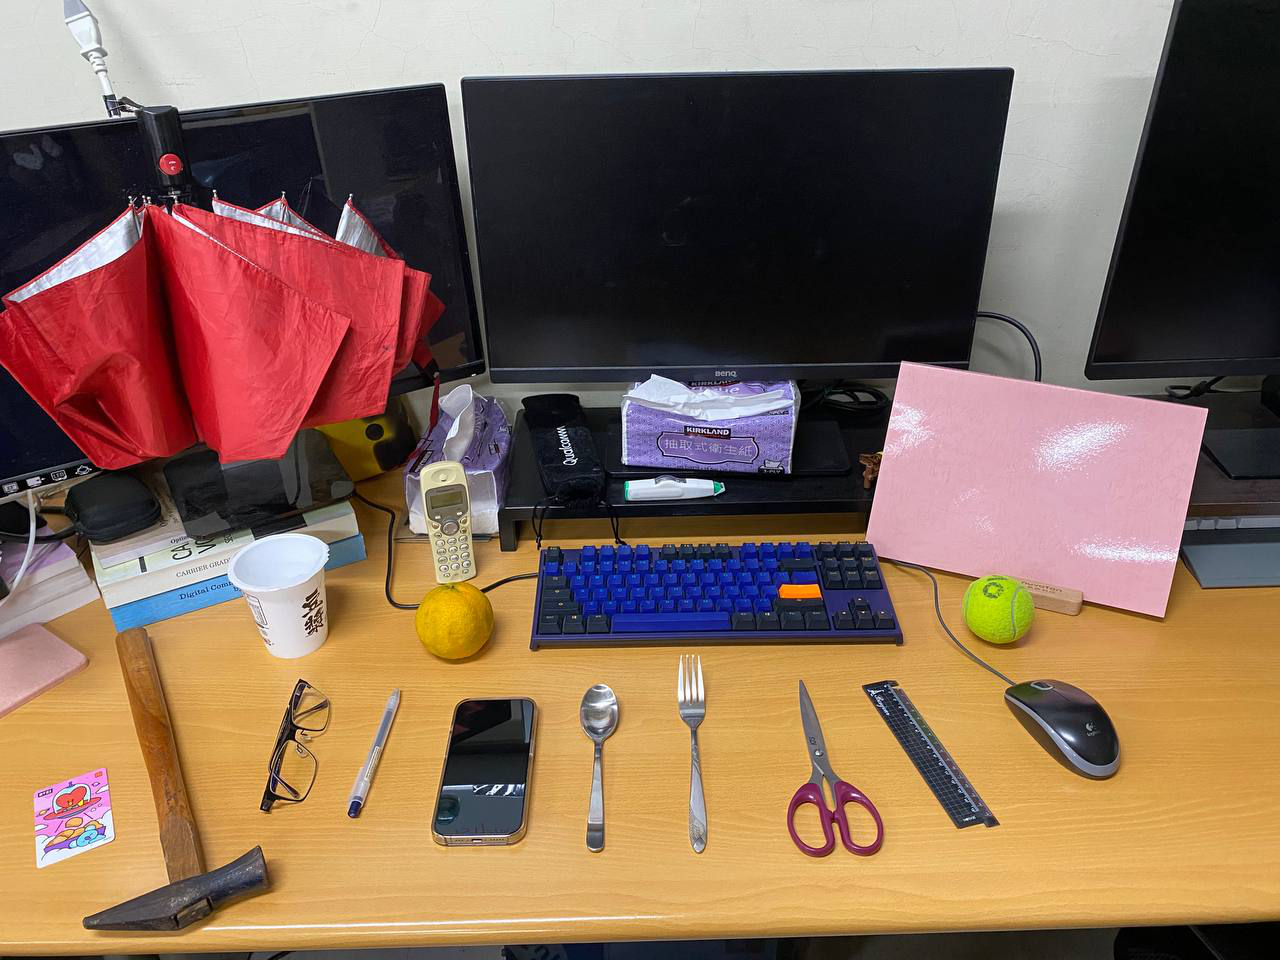telephone: (415, 460, 486, 590)
